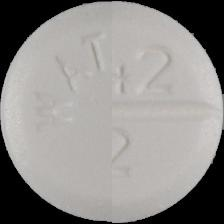63629-2954: (0, 0, 224, 224)
